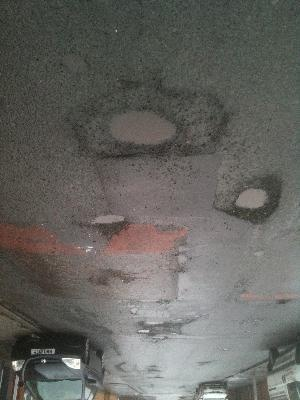pothole: (65, 85, 229, 160), (223, 174, 283, 226), (133, 318, 180, 338), (86, 211, 129, 232)
